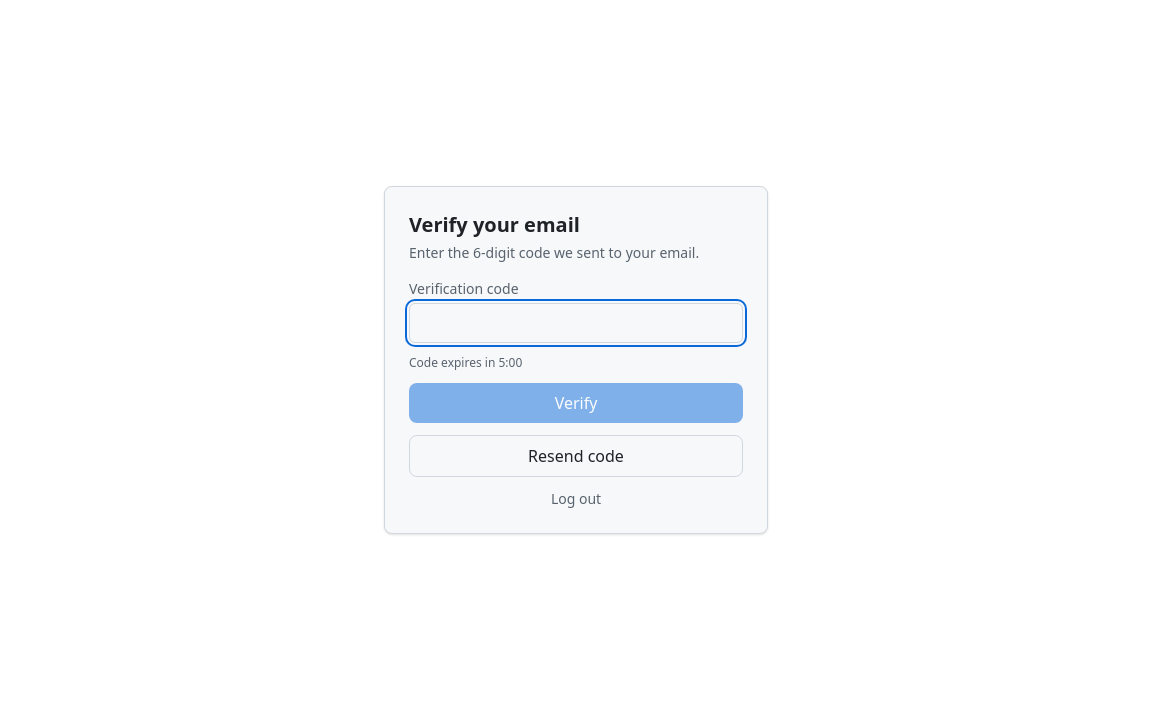
Scenario: submit mã sai → hiện lỗi map từ server detail 422
Type "000000" into the field with test id "input-code" at (576, 323), box [409,303,743,343]
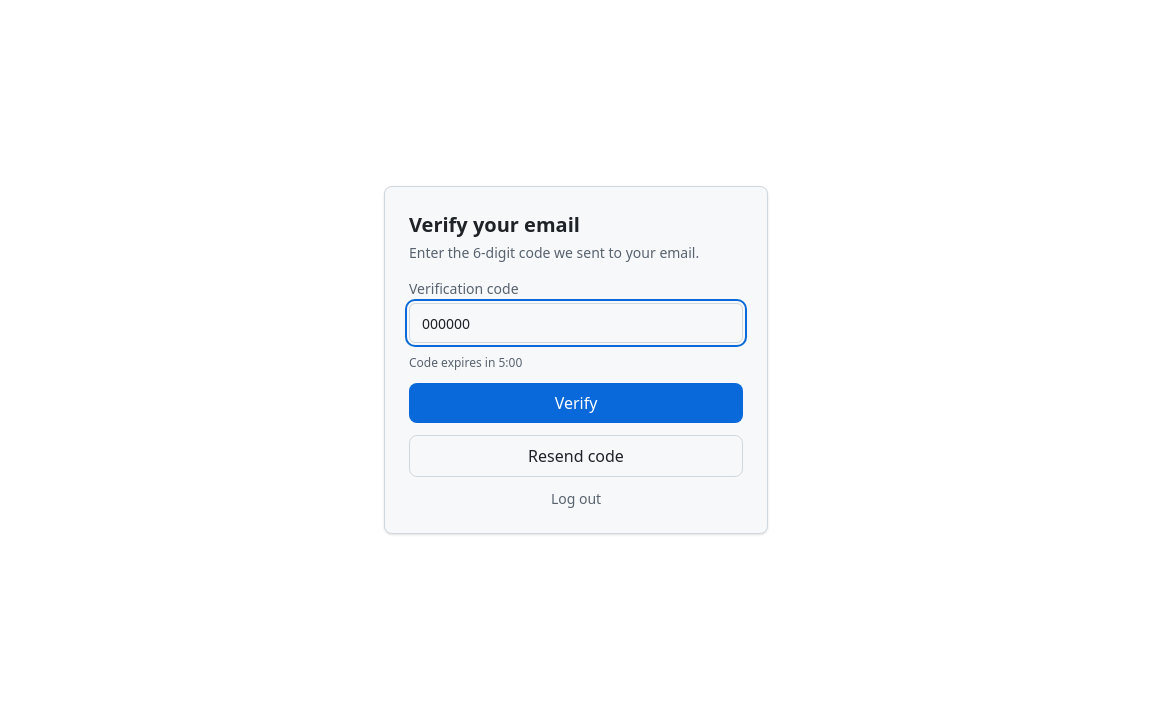
Click the button with test id "btn-verify" at (576, 403), box [409,383,743,423]
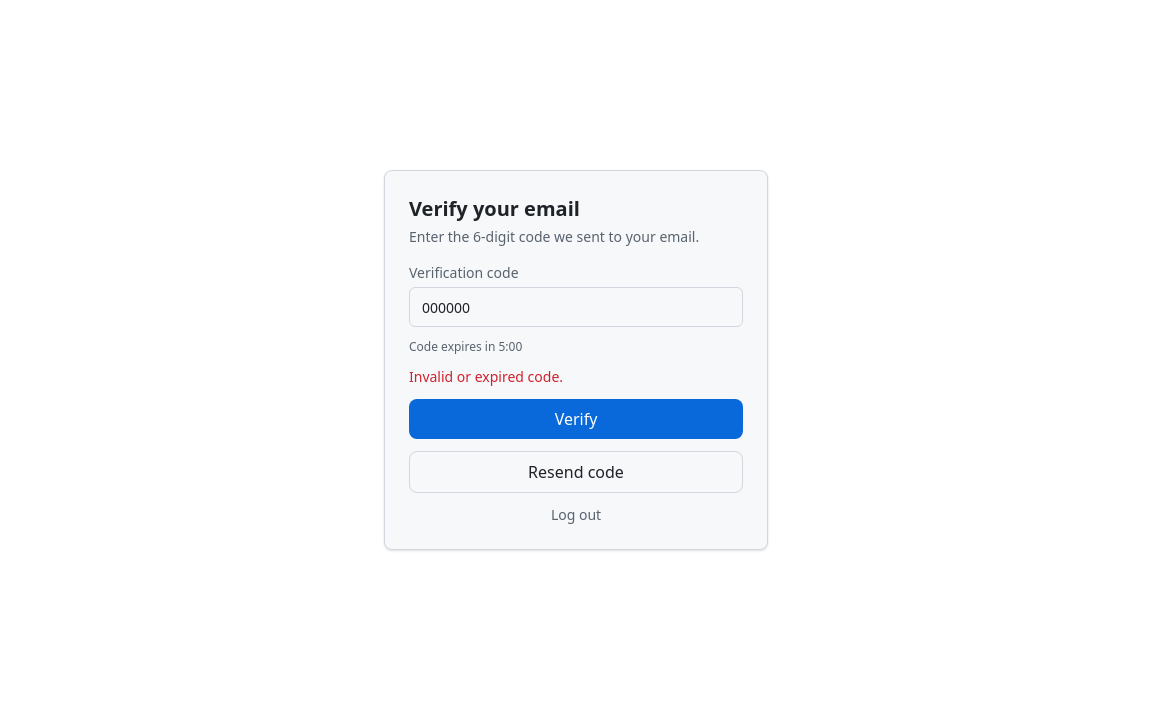
Check: the message with test id "error-detail" does not show "invalid or expired", box [409,367,563,386]
Check: the message with test id "error-detail" reads "Invalid or expired code.", box [409,367,563,386]
